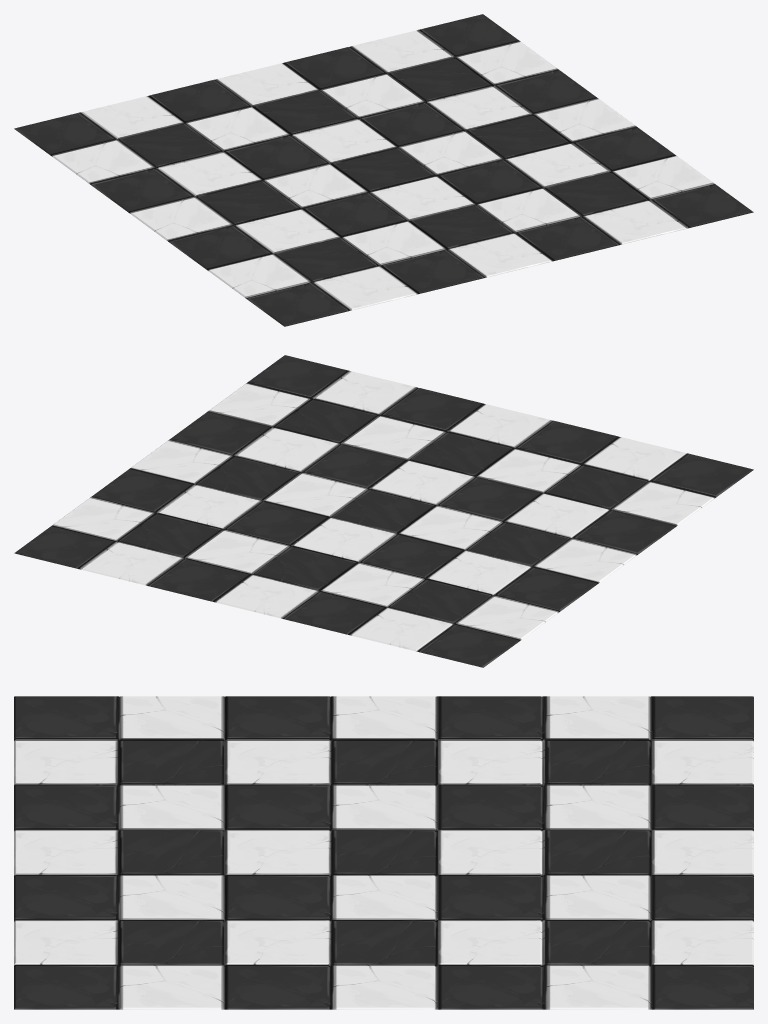
The model's file is Floor_04.FBX.
3 renders of one model, top to bottom at view 1: azimuth 30°, elevation 25°; view 2: azimuth 150°, elevation 25°; view 3: azimuth 270°, elevation 25°, orthographic. The views are drawn at different scales.
Parts seen in each view (by area): view 1: Floor_04; view 2: Floor_04; view 3: Floor_04.
Boxes of the visible parts, x1,y1,x2,y2 form: Floor_04: (14, 14, 753, 326); Floor_04: (14, 355, 753, 667); Floor_04: (14, 696, 753, 1009).
Bounding box in the file's own units: 2015 × 3.83 × 2012.
